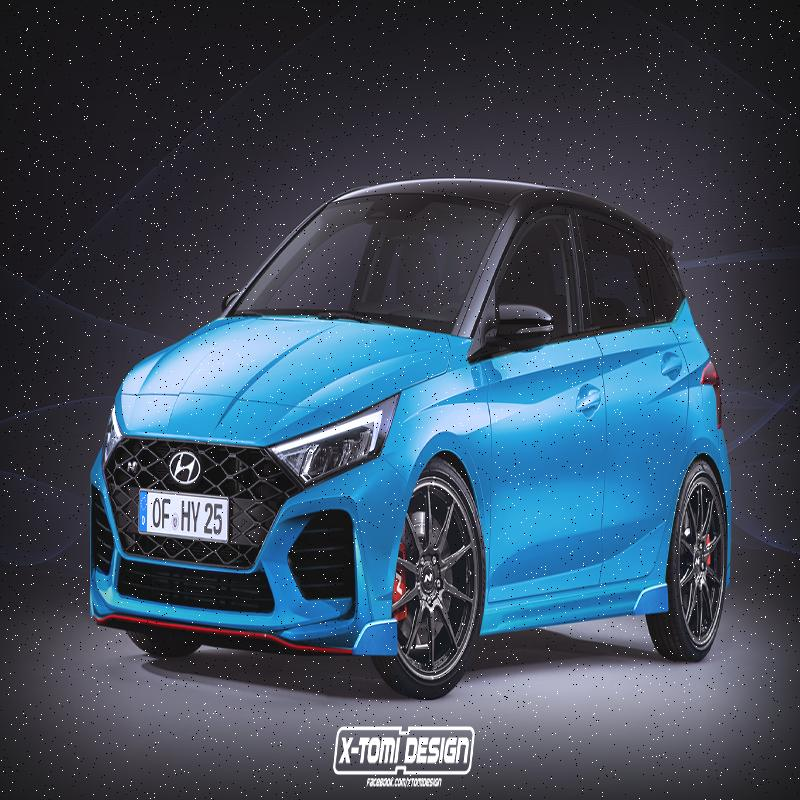car: (72, 142, 735, 693)
